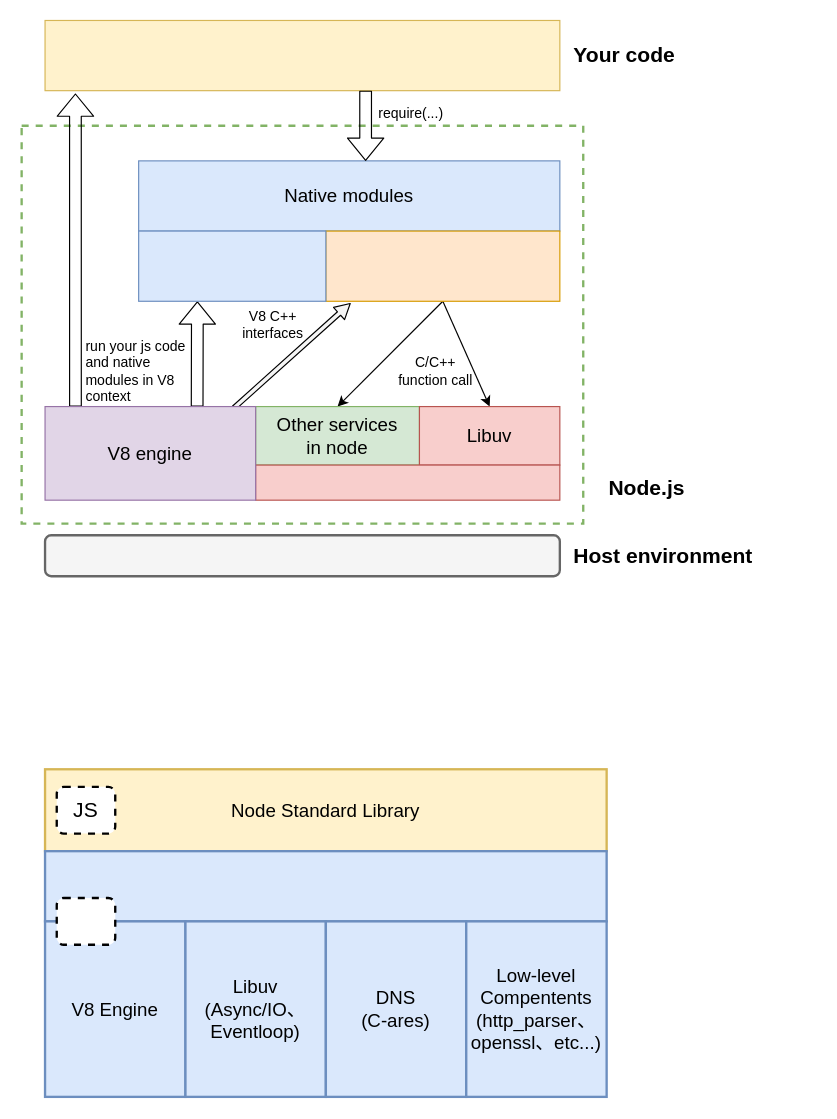
This 837x1119 diagram has some shape labels left out. The shapes that lost their labels are listed below. From the top down, each one's centre as x and y in pixels, then its label:
At [302,55]: "Your JS code".
At [442,265]: "Buildin modules".
At [301,555]: "CPU、RAM、DISK OS...".
At [325,885]: "Node Bindings (socket、http、file、etc...)".
At [85,920]: "C++".
